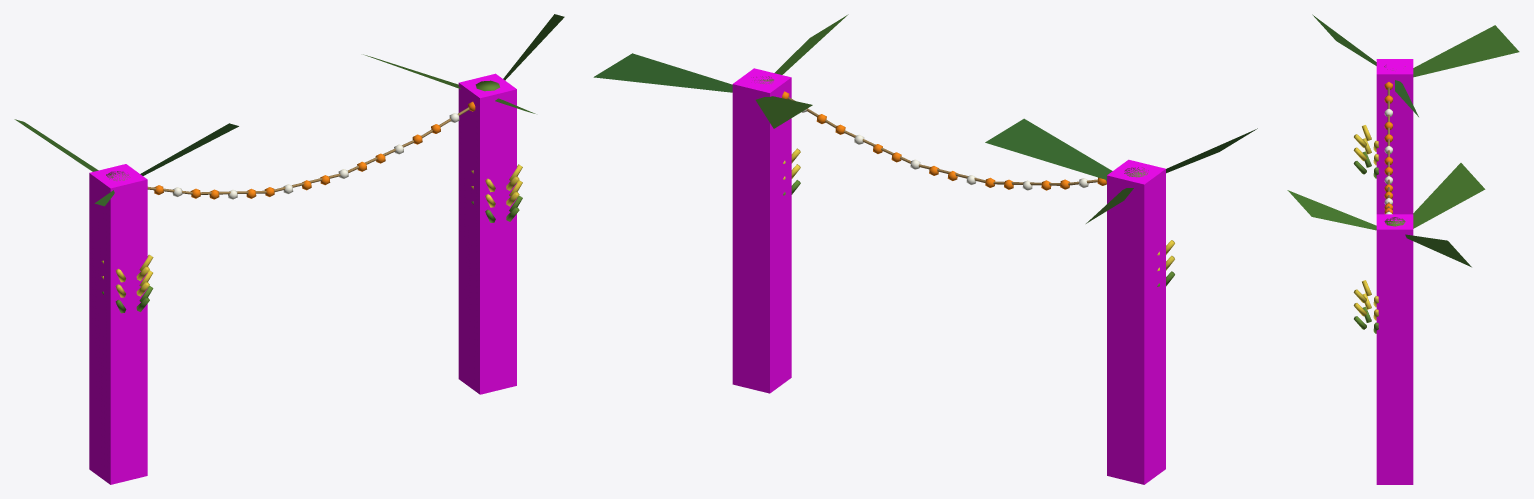
File: PRP_Banana_Arch_A.glb
The picture shows the model from 3 angles, left to right: view 1: azimuth 30°, elevation 25°; view 2: azimuth 150°, elevation 25°; view 3: azimuth 270°, elevation 25°; orthographic projection. The views are drawn at different scales.
Visible parts, largest first — view 1: COL_Stem_-1, COL_Stem_1, PRP_Banana_Arch_A_Mesh; view 2: COL_Stem_-1, COL_Stem_1, PRP_Banana_Arch_A_Mesh; view 3: COL_Stem_1, PRP_Banana_Arch_A_Mesh, COL_Stem_-1.
Boxes of the visible parts, bbox=[...] form: COL_Stem_-1: bbox=[89, 164, 147, 484]; COL_Stem_1: bbox=[458, 73, 516, 394]; PRP_Banana_Arch_A_Mesh: bbox=[14, 14, 564, 313]; COL_Stem_-1: bbox=[1107, 159, 1165, 484]; COL_Stem_1: bbox=[732, 68, 791, 393]; PRP_Banana_Arch_A_Mesh: bbox=[593, 14, 1257, 286]; COL_Stem_1: bbox=[1376, 214, 1413, 484]; PRP_Banana_Arch_A_Mesh: bbox=[1287, 14, 1519, 333]; COL_Stem_-1: bbox=[1376, 59, 1413, 214].
Bounding box in the file's own units: 4.58 × 2.5 × 1.9.
